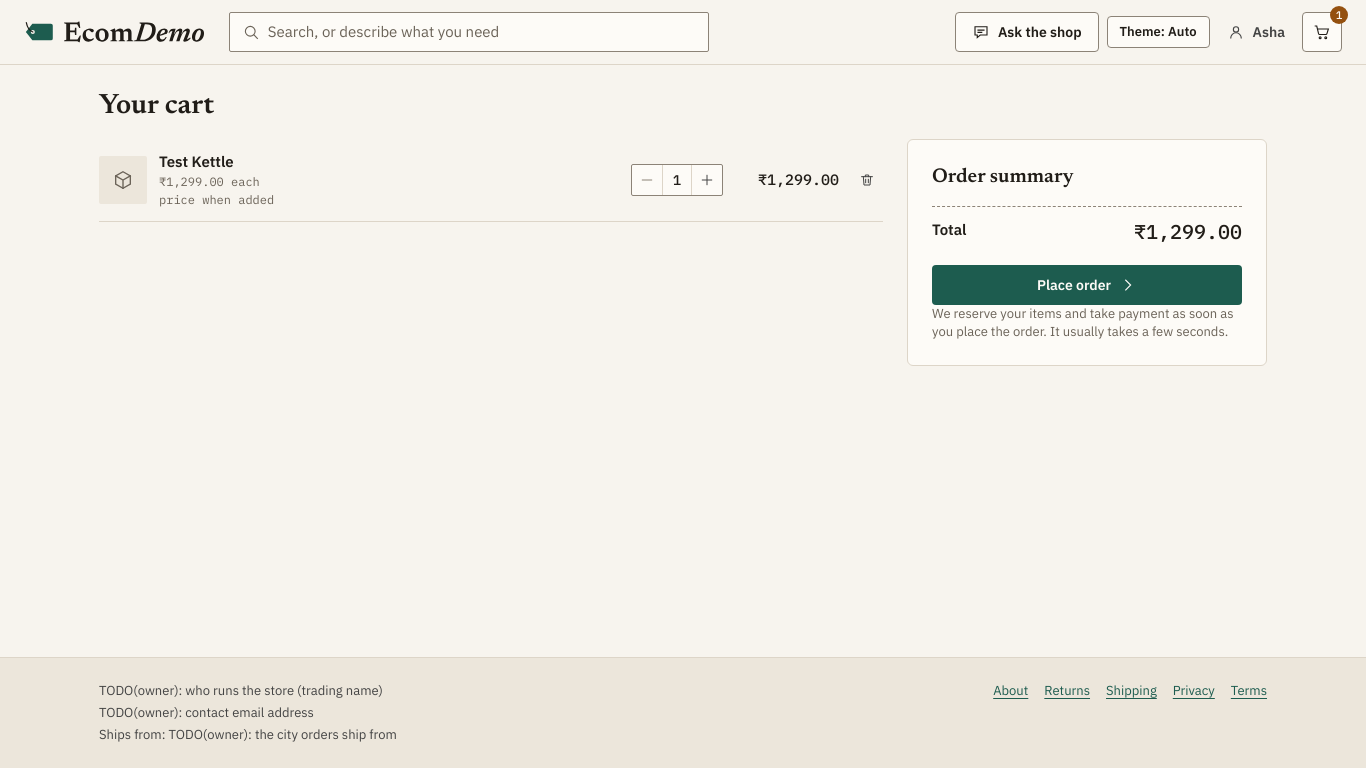
it: the cart page › replaces the whole cart with the answer
This screenshot has width=1366, height=768.
Check: the heading "Your cart" is shown, box [99,89,214,123]
Click the button named "Increase".
click(707, 180)  # box [692,165,722,195]
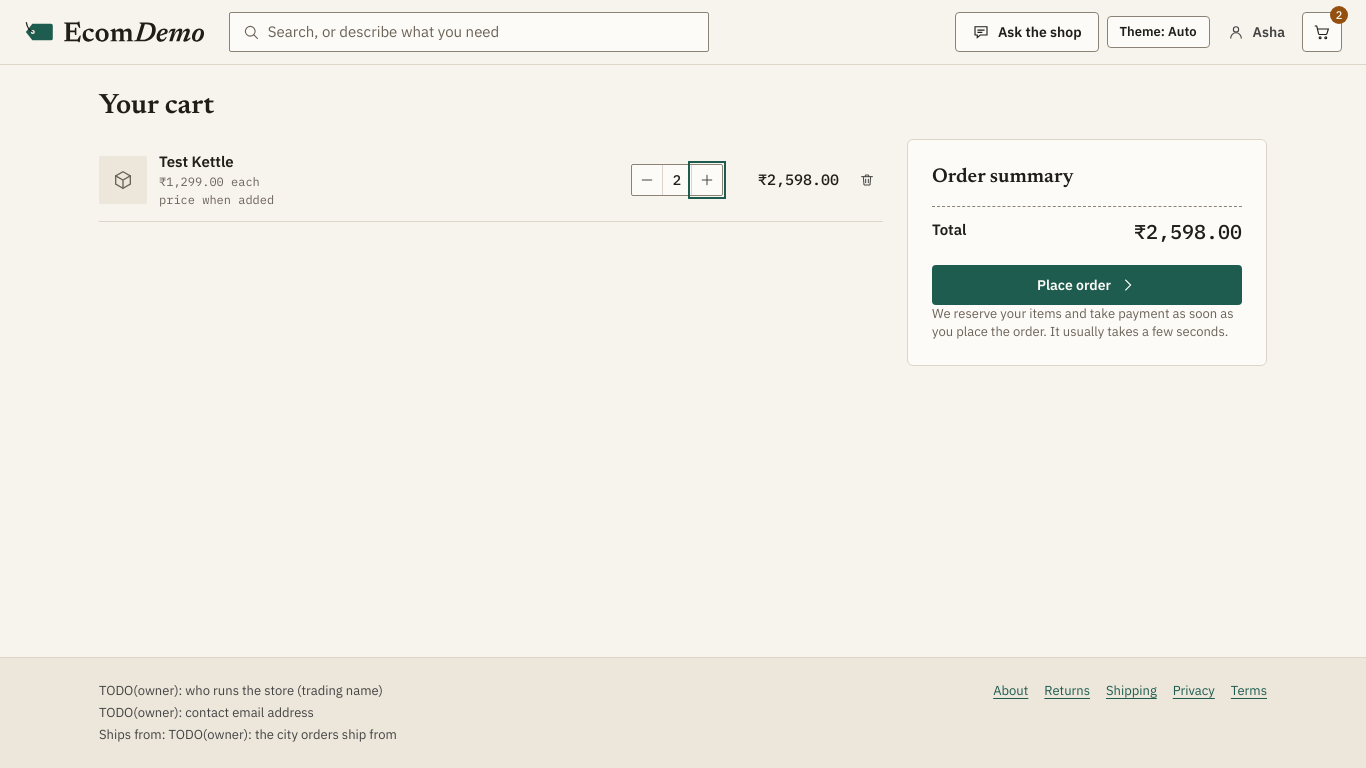
Check: the text "₹2,598.00" in the row of "Total" is shown, box [1134,218,1242,245]
